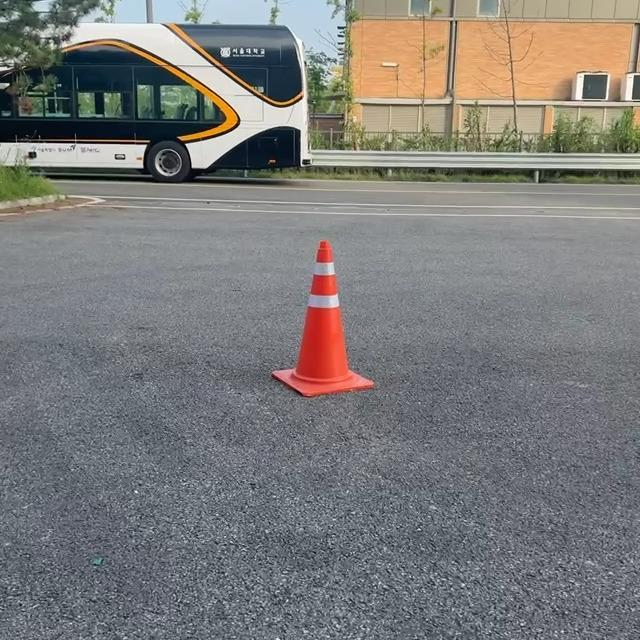fallen_object: (232, 227, 410, 436)
